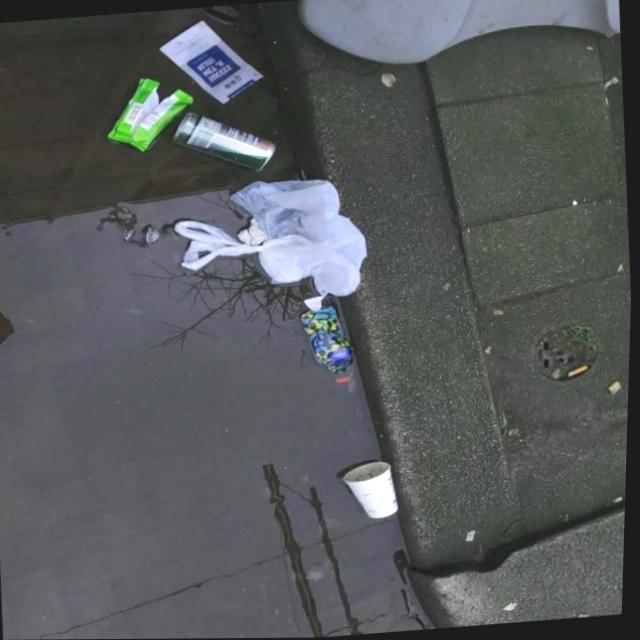Can-Metal: (170, 104, 280, 178)
Cup: (342, 459, 404, 521)
Paper: (155, 14, 268, 108)
Plastic: (103, 72, 198, 153)
